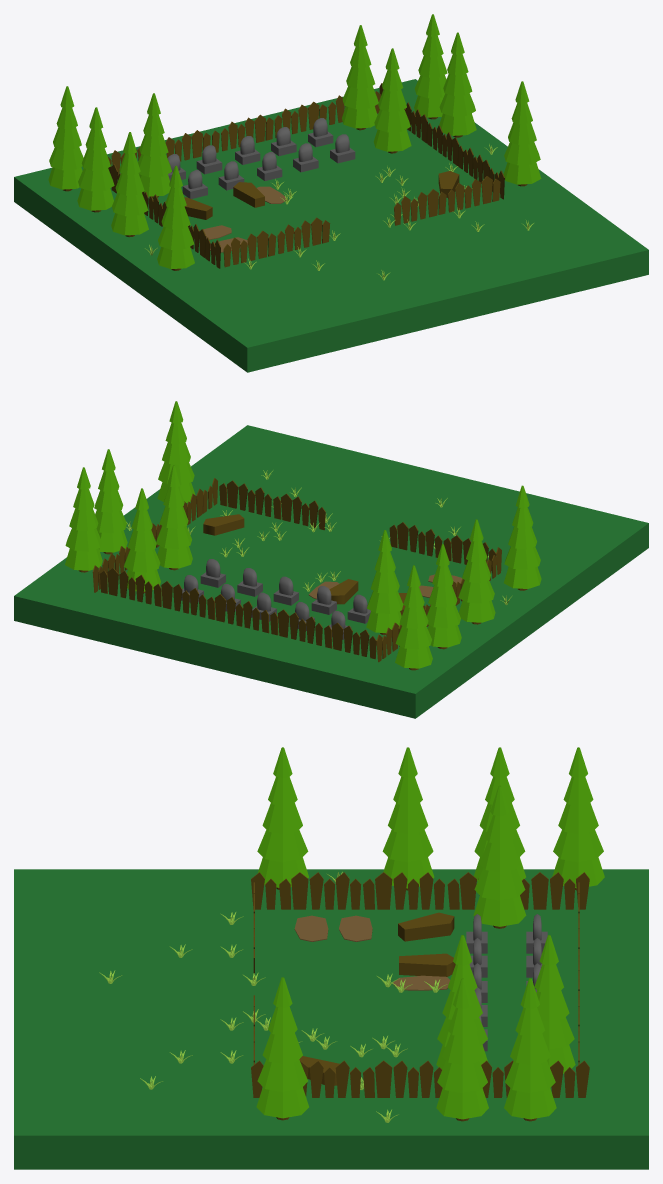
File: a75ca3a6-abad-4bd0-b6dd-e80a88588408.glb
The picture shows the model from 3 angles, top to bottom: view 1: azimuth 30°, elevation 25°; view 2: azimuth 150°, elevation 25°; view 3: azimuth 270°, elevation 25°; orthographic projection. The views are drawn at different scales.
Visible parts, largest first — view 1: Box116; view 2: Box116; view 3: Box116, Box111.
Boxes of the visible parts, <box> form: Box116: <box>14,14,648,372</box>; Box116: <box>14,401,648,718</box>; Box116: <box>14,747,648,1169</box>; Box111: <box>393,975,449,990</box>.
Bounding box in the file's own units: 138 × 41.93 × 139.
